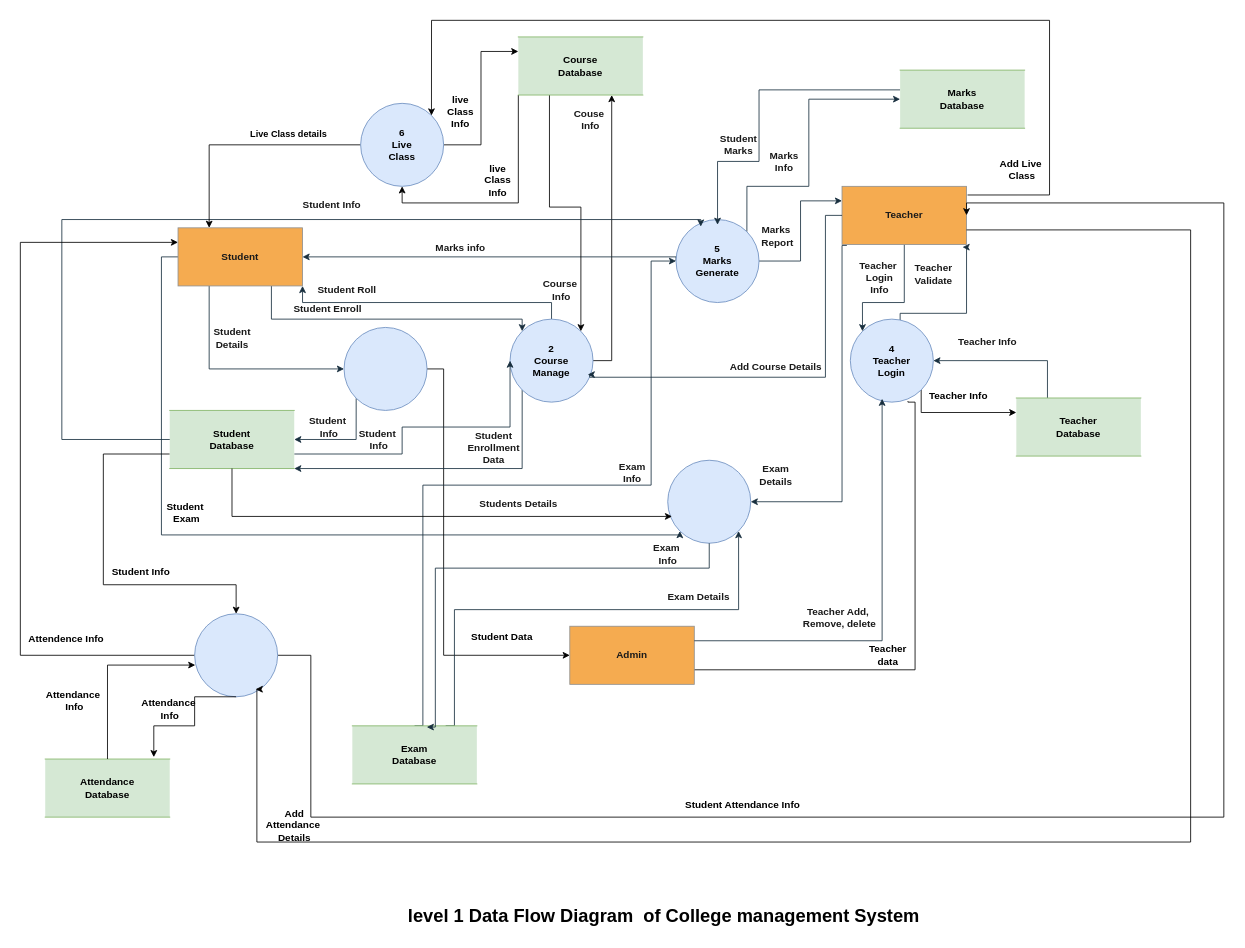
This 1245x948 diagram has some shape labels left out. The centre of each missing label's shape, as x and y in pixels:
"1 Student Register" goes at point 385,368.
"3 Exam" goes at point 709,501.
"7 Attendance" goes at point 236,655.
